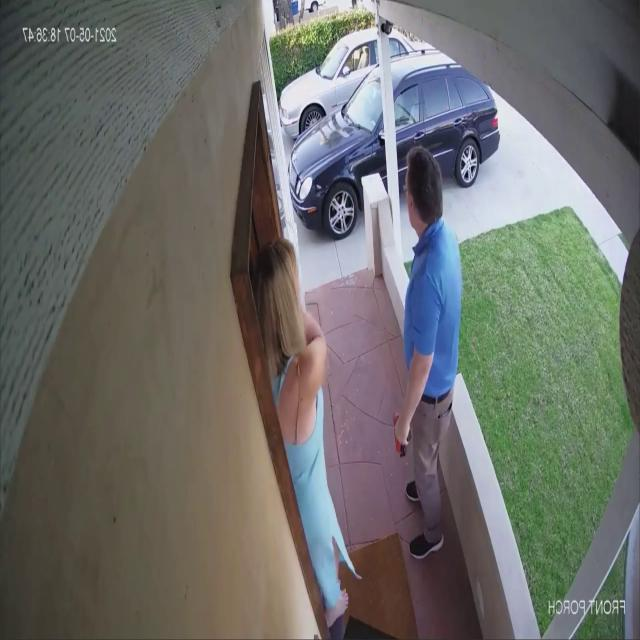Gun: (394, 412, 411, 458)
